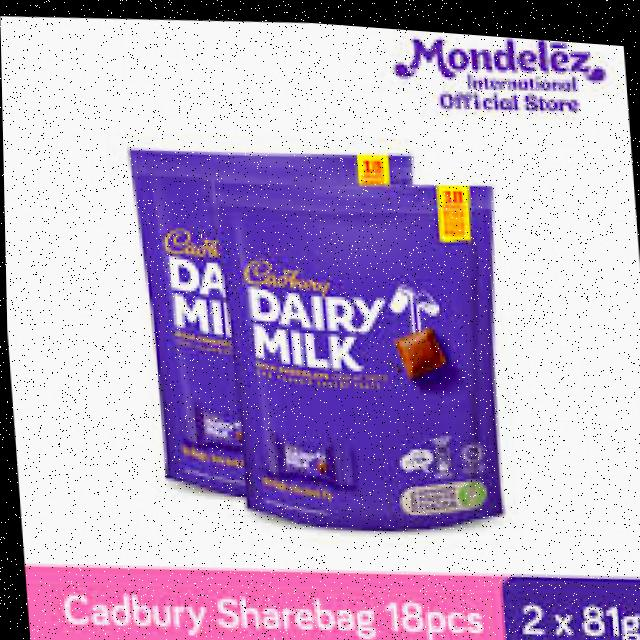cadbury: (208, 161, 512, 535)
